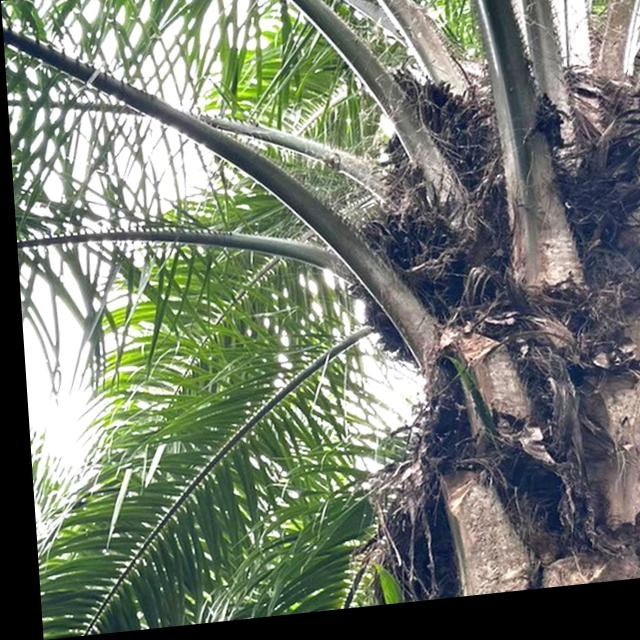unripe: (336, 201, 469, 373)
